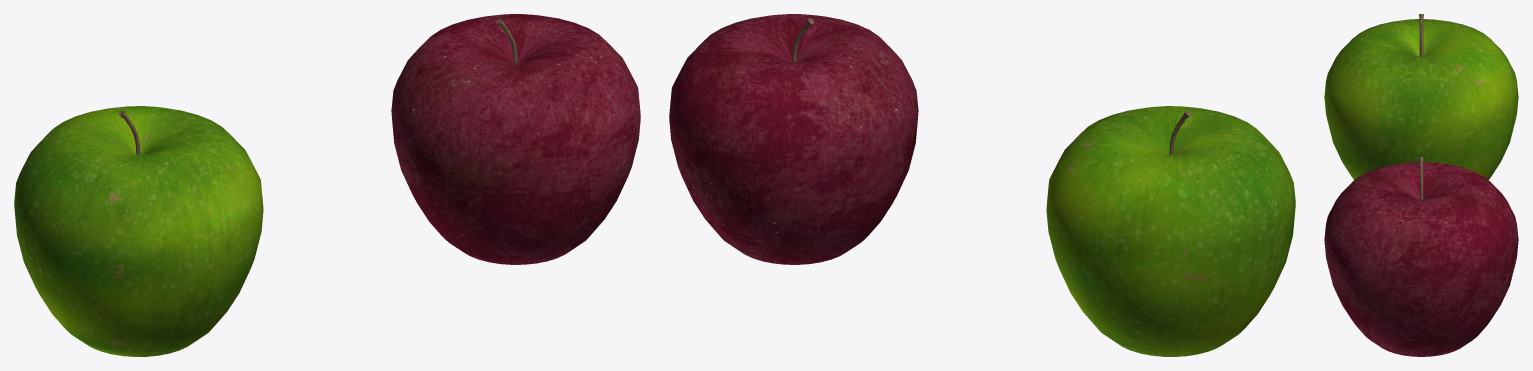
File: Apple.fbx
3 renders of one model, left to right at view 1: azimuth 30°, elevation 25°; view 2: azimuth 150°, elevation 25°; view 3: azimuth 270°, elevation 25°, orthographic. The views are drawn at different scales.
Visible parts, largest first — view 1: RedApple, GreenApple; view 2: RedApple, GreenApple; view 3: RedApple, GreenApple.
Boxes of the visible parts, <box> form: RedApple: <box>391,14,640,264</box>; GreenApple: <box>14,106,263,356</box>; RedApple: <box>669,14,918,264</box>; GreenApple: <box>1046,106,1295,356</box>; RedApple: <box>1324,157,1518,356</box>; GreenApple: <box>1324,14,1518,179</box>.
Size of the model in its own units: 19.31 by 7.12 by 7.04.
